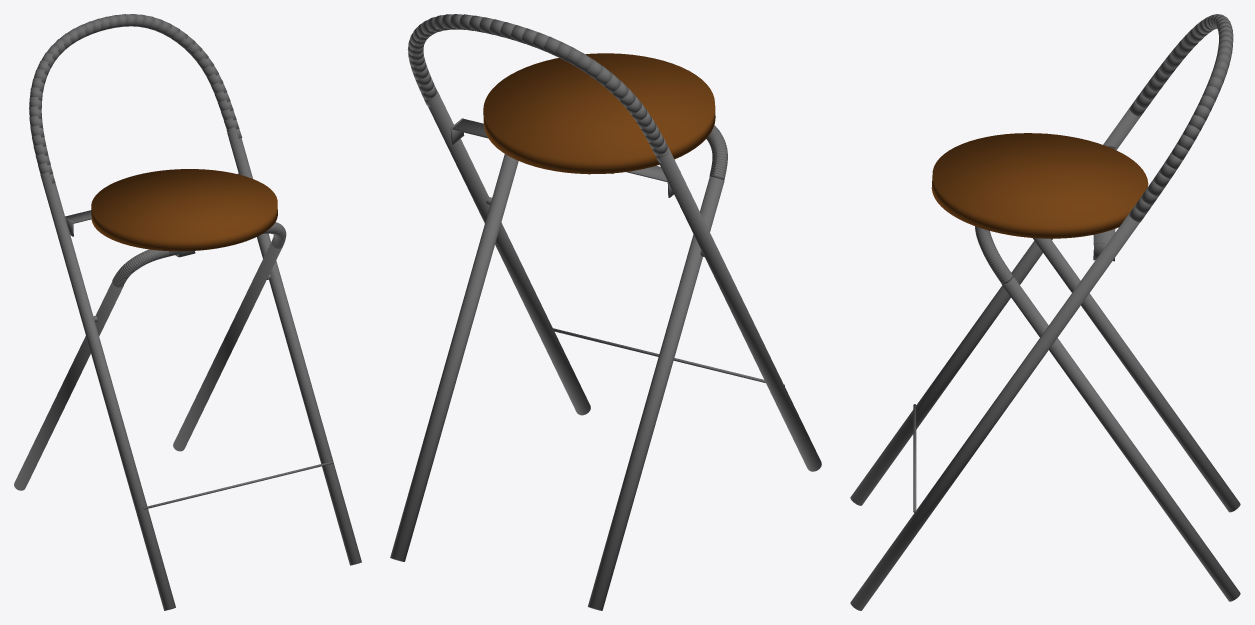
File: chaiseCuisine.obj
3 views of the same model, side by side, from view 1: azimuth 30°, elevation 25°; view 2: azimuth 150°, elevation 25°; view 3: azimuth 270°, elevation 25° (orthographic). The views are drawn at different scales.
Parts seen in each view (by area): view 1: Cercle, Pied_avant_droit, Pied_avant_gauche, Pied_arriere_gauche, Pied_arriere_droit, Repose_pied; view 2: Cercle, Pied_arriere_droit, Pied_arriere_gauche, Pied_avant_droit, Pied_avant_gauche, Barre_soutien_arriere, Repose_pied; view 3: Cercle, Pied_avant_gauche, Pied_arriere_gauche, Pied_avant_droit, Pied_arriere_droit.
Boxes of the visible parts, x1,y1,x2,y2 form: Cercle: (91,169,277,251); Pied_avant_droit: (41,175,175,610); Pied_avant_gauche: (227,130,361,565); Pied_arriere_gauche: (173,242,282,451); Pied_arriere_droit: (14,282,123,490); Repose_pied: (143,461,332,509); Cercle: (483,53,715,174); Pied_arriere_droit: (588,176,724,610); Pied_arriere_gauche: (390,154,518,561); Pied_avant_droit: (658,148,821,471); Pied_avant_gauche: (427,91,590,415); Barre_soutien_arriere: (452,119,667,181); Repose_pied: (553,328,784,386); Cercle: (931,133,1148,238); Pied_avant_gauche: (850,205,1139,610); Pied_arriere_gauche: (1001,276,1240,601); Pied_avant_droit: (850,101,1140,505); Pied_arriere_droit: (1033,238,1240,512).
Size of the model in its own units: 36.63 by 80.59 by 54.18.
